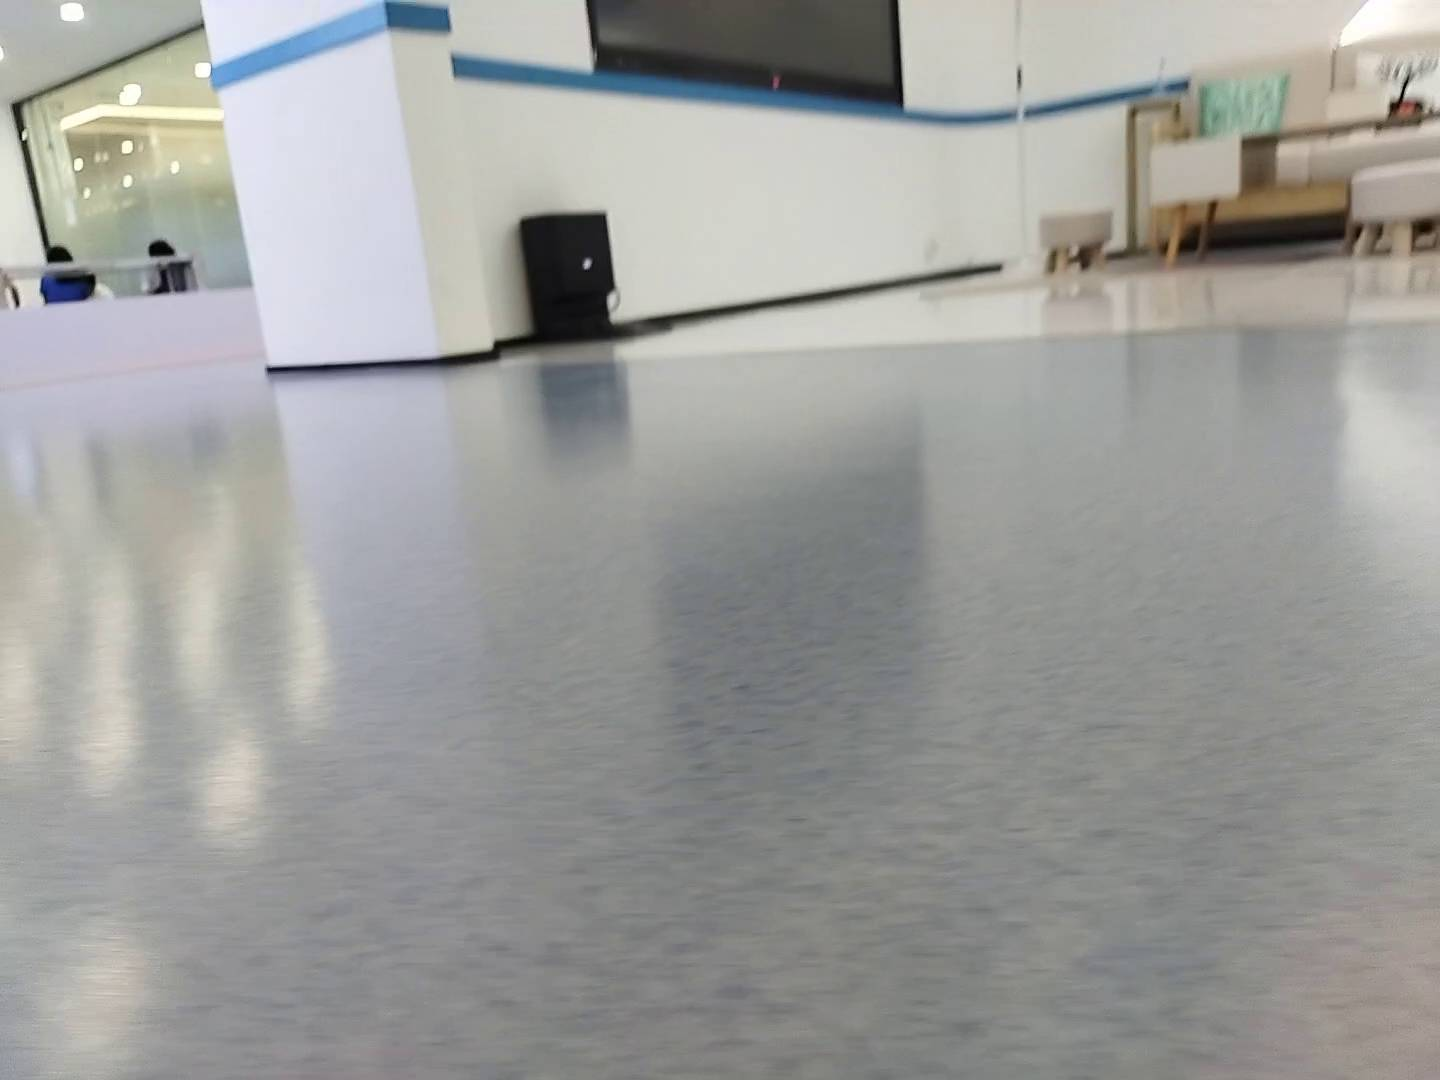dust collecting barrel: (517, 213, 674, 341)
